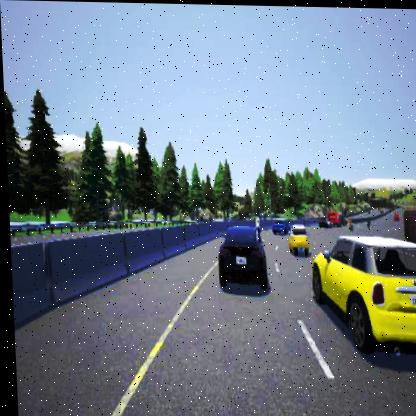bike: (252, 213, 262, 242)
vehicle: (308, 233, 416, 353), (214, 224, 264, 288), (285, 220, 306, 256), (315, 210, 344, 226), (269, 217, 287, 234)
